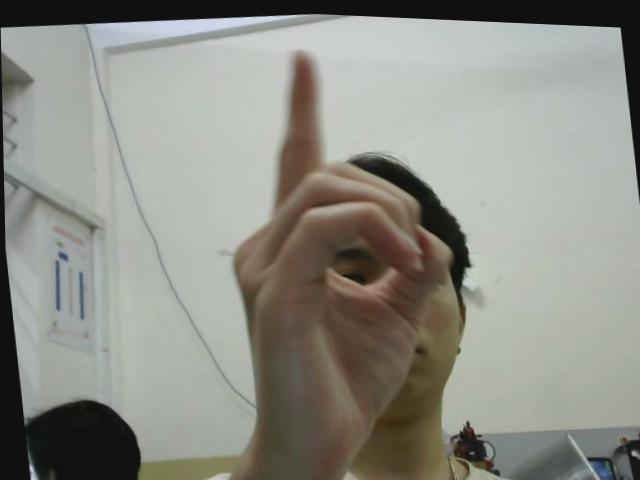D: (204, 28, 474, 468)
